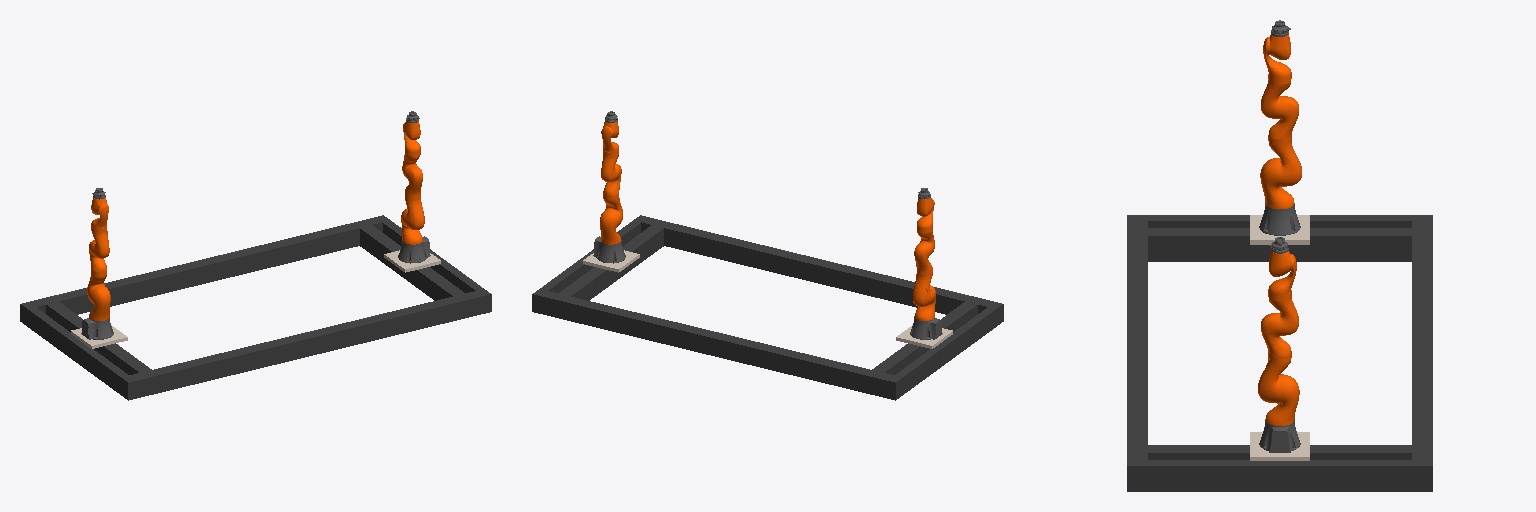
--- What the picture shows (computed from the rendered views, not written in the file) ---
3 views of the same robot in one strip: view 1: azimuth 30°, elevation 25°; view 2: azimuth 150°, elevation 25°; view 3: azimuth 270°, elevation 25° (orthographic).
Model iiwas with 27 links and 26 joints (14 revolute, 12 fixed), rooted at world, posed all joints at 0.
Links seen in each view (by area): view 1: v_bar_right, v_bar_left, h_bar_front_out, h_bar_back_in, h_bar_front_in, h_bar_back_out, F_link_1, B_link_0, F_link_0, B_link_2; view 2: v_bar_left, v_bar_right, h_bar_front_out, h_bar_back_in, h_bar_front_in, h_bar_back_out, B_link_1, B_link_0, F_link_0, F_link_2; view 3: h_bar_back_out, h_bar_front_in, v_bar_left, v_bar_right, h_bar_back_in, h_bar_front_out, B_link_1, F_link_1, back_base, B_link_0, F_link_0, F_link_3 (+8 smaller).
Boxes of the visible links, x1,y1,x2,y2 form: v_bar_right: [121, 289, 491, 400]; v_bar_left: [20, 215, 390, 326]; h_bar_front_out: [28, 307, 128, 394]; h_bar_back_in: [360, 225, 464, 300]; h_bar_front_in: [46, 302, 151, 374]; h_bar_back_out: [383, 221, 483, 292]; F_link_1: [89, 285, 110, 320]; B_link_0: [398, 236, 430, 263]; F_link_0: [81, 317, 113, 339]; B_link_2: [404, 197, 424, 229]; v_bar_left: [532, 289, 902, 400]; v_bar_right: [633, 215, 1003, 326]; h_bar_front_out: [895, 307, 995, 394]; h_bar_back_in: [559, 225, 663, 300]; h_bar_front_in: [872, 302, 977, 374]; h_bar_back_out: [540, 221, 640, 292]; B_link_1: [600, 209, 621, 244]; B_link_0: [593, 236, 625, 263]; F_link_0: [910, 317, 942, 339]; F_link_2: [913, 274, 933, 306]; h_bar_back_out: [1148, 460, 1411, 491]; h_bar_front_in: [1148, 228, 1411, 261]; v_bar_left: [1412, 215, 1432, 491]; v_bar_right: [1127, 215, 1147, 491]; h_bar_back_in: [1148, 445, 1411, 459]; h_bar_front_out: [1148, 215, 1411, 227]; B_link_1: [1265, 374, 1299, 425]; F_link_1: [1260, 158, 1294, 208]; back_base: [1250, 432, 1309, 460]; B_link_0: [1259, 420, 1300, 452]; F_link_0: [1259, 204, 1300, 235]; F_link_3: [1268, 96, 1298, 145].
Size in the robot's own frame: 3.5 by 1.8 by 1.53 metres.
16 mesh visuals loaded from 8 distinct referenced files (8 binary STL).

URDF robot description (iiwas):
<?xml version="1.0" ?>
<!-- =================================================================================== -->
<!-- |    This document was autogenerated by xacro from iiwas_new_frame.urdf.xacro     | -->
<!-- |    EDITING THIS FILE BY HAND IS NOT RECOMMENDED                                 | -->
<!-- =================================================================================== -->
<robot name="iiwas" xmlns:xacro="http://www.ros.org/wiki/xacro">
  <material name="Black">
    <color rgba="0.0 0.0 0.0 1.0"/>
  </material>
  <material name="Blue">
    <color rgba="0.0 0.0 0.8 1.0"/>
  </material>
  <material name="Green">
    <color rgba="0.0 0.8 0.0 1.0"/>
  </material>
  <material name="Grey">
    <color rgba="0.4 0.4 0.4 1.0"/>
  </material>
  <material name="Orange">
    <color rgba="1.0 0.423529411765 0.0392156862745 1.0"/>
  </material>
  <material name="Brown">
    <color rgba="0.870588235294 0.811764705882 0.764705882353 1.0"/>
  </material>
  <material name="Red">
    <color rgba="0.8 0.0 0.0 1.0"/>
  </material>
  <material name="White">
    <color rgba="1.0 1.0 1.0 1.0"/>
  </material>
  <material name="LightGrey">
    <color rgba="0.3 0.3 0.3 1.0"/>
  </material>
  <!--       xmlns:sensor="http://playerstage.sourceforge.net/gazebo/xmlschema/#sensor"-->
  <!--       xmlns:controller="http://playerstage.sourceforge.net/gazebo/xmlschema/#controller"-->
  <!--       xmlns:interface="http://playerstage.sourceforge.net/gazebo/xmlschema/#interface">-->
  <!-- the mass values and inertia may not be completly correct as the moment so this model should just be used as a kinematic one now-->
  <link name="world"/>
  <joint name="front_base_joint" type="fixed">
    <origin rpy="0.0 0.0 0.0" xyz="0.0 0.0 -0.015"/>
    <parent link="world"/>
    <child link="front_base"/>
  </joint>
  <link name="front_base">
    <inertial>
      <origin rpy="0 0 0" xyz="0 0 0"/>
      <mass value="3"/>
      <inertia ixx="0.03" ixy="0.0" ixz="0.0" iyy="0.03" iyz="0.0" izz="0.06"/>
    </inertial>
    <visual>
      <origin rpy="0.0 0.0 0.0" xyz="0.0 0.0 0.0"/>
      <geometry>
        <box size="0.35 0.35 0.03"/>
      </geometry>
      <material name="Brown"/>
    </visual>
    <collision>
      <origin rpy="0.0 0.0 0.0" xyz="0.0 0.0 0.0"/>
      <geometry>
        <box size="0.35 0.35 0.03"/>
      </geometry>
    </collision>
    <selfCollide>0</selfCollide>
  </link>
  <joint name="back_base_joint" type="fixed">
    <origin rpy="0.0 0.0 0.0" xyz="3.02 0.0 0.0"/>
    <parent link="front_base"/>
    <child link="back_base"/>
  </joint>
  <link name="back_base">
    <inertial>
      <origin rpy="0 0 0" xyz="0 0 0"/>
      <mass value="3"/>
      <inertia ixx="0.03" ixy="0.0" ixz="0.0" iyy="0.03" iyz="0.0" izz="0.06"/>
    </inertial>
    <visual>
      <origin rpy="0.0 0.0 0.0" xyz="0.0 0.0 0.0"/>
      <geometry>
        <box size="0.35 0.35 0.03"/>
      </geometry>
      <material name="Brown"/>
    </visual>
    <collision>
      <origin rpy="0.0 0.0 0.0" xyz="0.0 0.0 0.0"/>
      <geometry>
        <box size="0.35 0.35 0.03"/>
      </geometry>
    </collision>
    <selfCollide>0</selfCollide>
  </link>
  <joint name="front_in" type="fixed">
    <origin rpy="0.0 0.0 1.57079632679" xyz="0.0 0.0 -0.0975"/>
    <parent link="front_base"/>
    <child link="h_bar_front_in"/>
  </joint>
  <link name="h_bar_front_in">
    <inertial>
      <origin rpy="0 0 0" xyz="0 0 0"/>
      <mass value="5"/>
      <inertia ixx="0.0175" ixy="0.0" ixz="0.0" iyy="1.025" iyz="0.0" izz="1.02"/>
    </inertial>
    <visual>
      <origin rpy="0.0 0.0 0.0" xyz="0.0 0.0 0.0"/>
      <geometry>
        <box size="1.56 0.12 0.165"/>
      </geometry>
      <material name="LightGrey"/>
    </visual>
    <collision>
      <origin rpy="0.0 0.0 0.0" xyz="0.0 0.0 0.0"/>
      <geometry>
        <box size="1.56 0.12 0.165"/>
      </geometry>
    </collision>
    <selfCollide>0</selfCollide>
  </link>
  <joint name="front_out" type="fixed">
    <origin rpy="0.0 0.0 1.57079632679" xyz="-0.20 0.0 -0.0975"/>
    <parent link="front_base"/>
    <child link="h_bar_front_out"/>
  </joint>
  <link name="h_bar_front_out">
    <inertial>
      <origin rpy="0 0 0" xyz="0 0 0"/>
      <mass value="5"/>
      <inertia ixx="0.014" ixy="0.0" ixz="0.0" iyy="1.025" iyz="0.0" izz="1.02"/>
    </inertial>
    <visual>
      <origin rpy="0.0 0.0 0.0" xyz="0.0 0.0 0.0"/>
      <geometry>
        <box size="1.56 0.08 0.165"/>
      </geometry>
      <material name="LightGrey"/>
    </visual>
    <collision>
      <origin rpy="0.0 0.0 0.0" xyz="0.0 0.0 0.0"/>
      <geometry>
        <box size="1.56 0.08 0.165"/>
      </geometry>
    </collision>
    <selfCollide>0</selfCollide>
  </link>
  <joint name="back_in" type="fixed">
    <origin rpy="0.0 0.0 1.57079632679" xyz="0.0 0.0 -0.0975"/>
    <parent link="back_base"/>
    <child link="h_bar_back_in"/>
  </joint>
  <link name="h_bar_back_in">
    <inertial>
      <origin rpy="0 0 0" xyz="0 0 0"/>
      <mass value="5"/>
      <inertia ixx="0.0175" ixy="0.0" ixz="0.0" iyy="1.025" iyz="0.0" izz="1.02"/>
    </inertial>
    <visual>
      <origin rpy="0.0 0.0 0.0" xyz="0.0 0.0 0.0"/>
      <geometry>
        <box size="1.56 0.12 0.165"/>
      </geometry>
      <material name="LightGrey"/>
    </visual>
    <collision>
      <origin rpy="0.0 0.0 0.0" xyz="0.0 0.0 0.0"/>
      <geometry>
        <box size="1.56 0.12 0.165"/>
      </geometry>
    </collision>
    <selfCollide>0</selfCollide>
  </link>
  <joint name="back_out" type="fixed">
    <origin rpy="0.0 0.0 1.57079632679" xyz="3.22 0.0 -0.0975"/>
    <parent link="front_base"/>
    <child link="h_bar_back_out"/>
  </joint>
  <link name="h_bar_back_out">
    <inertial>
      <origin rpy="0 0 0" xyz="0 0 0"/>
      <mass value="5"/>
      <inertia ixx="0.014" ixy="0.0" ixz="0.0" iyy="1.025" iyz="0.0" izz="1.02"/>
    </inertial>
    <visual>
      <origin rpy="0.0 0.0 0.0" xyz="0.0 0.0 0.0"/>
      <geometry>
        <box size="1.56 0.08 0.165"/>
      </geometry>
      <material name="LightGrey"/>
    </visual>
    <collision>
      <origin rpy="0.0 0.0 0.0" xyz="0.0 0.0 0.0"/>
      <geometry>
        <box size="1.56 0.08 0.165"/>
      </geometry>
    </collision>
    <selfCollide>0</selfCollide>
  </link>
  <joint name="left" type="fixed">
    <origin rpy="0.0 0.0 0.0" xyz="1.51 0.84 -0.0975"/>
    <parent link="front_base"/>
    <child link="v_bar_left"/>
  </joint>
  <link name="v_bar_left">
    <inertial>
      <origin rpy="0 0 0" xyz="0 0 0"/>
      <mass value="8"/>
      <inertia ixx="0.028" ixy="0.0" ixz="0.0" iyy="8.467" iyz="0.0" izz="8.459"/>
    </inertial>
    <visual>
      <origin rpy="0.0 0.0 0.0" xyz="0.0 0.0 0.0"/>
      <geometry>
        <box size="3.5 0.12 0.165"/>
      </geometry>
      <material name="LightGrey"/>
    </visual>
    <collision>
      <origin rpy="0.0 0.0 0.0" xyz="0.0 0.0 0.0"/>
      <geometry>
        <box size="3.5 0.12 0.165"/>
      </geometry>
    </collision>
    <selfCollide>0</selfCollide>
  </link>
  <joint name="frame_right" type="fixed">
    <origin rpy="0.0 0.0 0.0" xyz="1.51 -0.84 -0.0975"/>
    <parent link="front_base"/>
    <child link="v_bar_right"/>
  </joint>
  <link name="v_bar_right">
    <inertial>
      <origin rpy="0 0 0" xyz="0 0 0"/>
      <mass value="8"/>
      <inertia ixx="0.028" ixy="0.0" ixz="0.0" iyy="8.467" iyz="0.0" izz="8.459"/>
    </inertial>
    <visual>
      <origin rpy="0.0 0.0 0.0" xyz="0.0 0.0 0.0"/>
      <geometry>
        <box size="3.5 0.12 0.165"/>
      </geometry>
      <material name="LightGrey"/>
    </visual>
    <collision>
      <origin rpy="0.0 0.0 0.0" xyz="0.0 0.0 0.0"/>
      <geometry>
        <box size="3.5 0.12 0.165"/>
      </geometry>
    </collision>
    <selfCollide>0</selfCollide>
  </link>
  <gazebo reference="iiwas_frame">
    <material value="Gazebo/Black"/>
    <turnGravityOff>0</turnGravityOff>
    <!-- use gravity for the base even if disabled for the arms in order to prevent iiwas from falling-->
  </gazebo>
  <!--joint between {parent} and link_0-->
  <joint name="front_base_F_base_joint" type="fixed">
    <origin rpy="0.0 0.0 0.0" xyz="0.0 0.0 0.015"/>
    <parent link="front_base"/>
    <child link="F_link_0"/>
  </joint>
  <link name="F_link_0">
    <inertial>
      <origin rpy="0 0 0" xyz="-0.1 0 0.07"/>
      <mass value="5"/>
      <inertia ixx="0.05" ixy="0" ixz="0" iyy="0.06" iyz="0" izz="0.03"/>
    </inertial>
    <visual>
      <origin rpy="0 0 0" xyz="0 0 0"/>
      <geometry>
        <mesh filename="package://iiwas_description/meshes/visual/link_0.stl"/>
      </geometry>
      <material name="Grey"/>
    </visual>
    <collision>
      <origin rpy="0 0 0" xyz="0 0 0"/>
      <geometry>
        <mesh filename="package://iiwas_description/meshes/collision/link_0.stl"/>
      </geometry>
      <material name="Grey"/>
    </collision>
    <self_collision_checking>
      <origin rpy="0 0 0" xyz="0 0 0"/>
      <geometry>
        <capsule length="0.25" radius="0.15"/>
      </geometry>
    </self_collision_checking>
  </link>
  <!-- joint between link_0 and link_1 -->
  <joint name="F_joint_1" type="revolute">
    <parent link="F_link_0"/>
    <child link="F_link_1"/>
    <origin rpy="0 0 0" xyz="0 0 0.1575"/>
    <axis xyz="0 0 1"/>
    <limit effort="320" lower="-2.96705972839" upper="2.96705972839" velocity="1.4835298642"/>
    <safety_controller k_position="1" k_velocity="10" soft_lower_limit="-2.93215314335" soft_upper_limit="2.93215314335"/>
    <dynamics damping="0.5"/>
  </joint>
  <link name="F_link_1">
    <inertial>
      <origin rpy="0 0 0" xyz="0 -0.03 0.12"/>
      <!--        <origin xyz="0.003508 -0.001602 0.171113" rpy="0 0 0"/>  &lt;!&ndash; inertial from sl but in different coordinate system &ndash;&gt;-->
      <mass value="3.947808"/>
      <!--        <inertia ixx="0.004554"  ixy="0.000001"  ixz="-0.000002" iyy="0.004542" iyz="0.000005" izz="0.000289" />-->
      <!--        <inertia ixx="0.4554"  ixy="0.0001"  ixz="-0.0002" iyy="0.4542" iyz="0.0005" izz="0.0289" />-->
      <inertia ixx="0.1" ixy="0" ixz="0" iyy="0.09" iyz="0" izz="0.02"/>
    </inertial>
    <visual>
      <origin rpy="0 0 0" xyz="0 0 0"/>
      <geometry>
        <mesh filename="package://iiwas_description/meshes/visual/link_1.stl"/>
      </geometry>
      <material name="Orange"/>
    </visual>
    <collision>
      <origin rpy="0 0 0" xyz="0 0 0"/>
      <geometry>
        <mesh filename="package://iiwas_description/meshes/collision/link_1.stl"/>
      </geometry>
      <material name="Orange"/>
    </collision>
  </link>
  <!-- joint between link_1 and link_2 -->
  <joint name="F_joint_2" type="revolute">
    <parent link="F_link_1"/>
    <child link="F_link_2"/>
    <origin rpy="1.57079632679   0 3.14159265359" xyz="0 0 0.2025"/>
    <axis xyz="0 0 1"/>
    <limit effort="320" lower="-2.09439510239" upper="2.09439510239" velocity="1.4835298642"/>
    <safety_controller k_position="1" k_velocity="10" soft_lower_limit="-2.05948851735" soft_upper_limit="2.05948851735"/>
    <dynamics damping="0.5"/>
  </joint>
  <link name="F_link_2">
    <inertial>
      <origin rpy="0 0 0" xyz="0.0003 0.059 0.042"/>
      <!--        <origin xyz="-0.007671 0.166693  -0.003551" rpy="0 0 0"/>  &lt;!&ndash; inertial from sl but in different coordinate system &ndash;&gt;-->
      <mass value="4.502752"/>
      <!--        <inertia ixx="0.000318"  ixy="0.000000"  ixz="0.000007" iyy="0.000100" iyz="-0.000003" izz="0.000419" />-->
      <!--        <inertia ixx="0.0318"  ixy="0.0000"  ixz="0.0007" iyy="0.0100" iyz="-0.0003" izz="0.0419" />-->
      <inertia ixx="0.05" ixy="0" ixz="0" iyy="0.018" iyz="0" izz="0.044"/>
    </inertial>
    <visual>
      <origin rpy="0 0 0" xyz="0 0 0"/>
      <geometry>
        <mesh filename="package://iiwas_description/meshes/visual/link_2.stl"/>
      </geometry>
      <material name="Orange"/>
    </visual>
    <collision>
      <origin rpy="0 0 0" xyz="0 0 0"/>
      <geometry>
        <mesh filename="package://iiwas_description/meshes/collision/link_2.stl"/>
      </geometry>
      <material name="Orange"/>
    </collision>
  </link>
  <!-- joint between link_2 and link_3 -->
  <joint name="F_joint_3" type="revolute">
    <parent link="F_link_2"/>
    <child link="F_link_3"/>
    <origin rpy="1.57079632679 0 3.14159265359" xyz="0 0.2045 0"/>
    <axis xyz="0 0 1"/>
    <limit effort="176" lower="-2.96705972839" upper="2.96705972839" velocity="1.74532925199"/>
    <safety_controller k_position="1" k_velocity="10" soft_lower_limit="-2.93215314335" soft_upper_limit="2.93215314335"/>
    <dynamics damping="0.5"/>
  </joint>
  <link name="F_link_3">
    <inertial>
      <origin rpy="0 0 0" xyz="0 0.03 0.13"/>
      <!--        <origin xyz="0.002246 0.034918 0.188978" rpy="0 0 0"/> &lt;!&ndash; inertial from sl but in different coordinate system &ndash;&gt;-->
      <mass value="2.455197"/>
      <!--        <inertia ixx="0.002233"  ixy="-0.000046"  ixz="0.000068" iyy="0.002191" iyz="0.000072" izz="0.000725" />-->
      <!--        <inertia ixx="0.2233"  ixy="-0.0046"  ixz="0.0068" iyy="0.2191" iyz="0.0072" izz="0.0725" />-->
      <inertia ixx="0.08" ixy="0" ixz="0" iyy="0.075" iyz="0" izz="0.01"/>
    </inertial>
    <visual>
      <origin rpy="0 0 0" xyz="0 0 0"/>
      <geometry>
        <mesh filename="package://iiwas_description/meshes/visual/link_3.stl"/>
      </geometry>
      <material name="Orange"/>
    </visual>
    <collision>
      <origin rpy="0 0 0" xyz="0 0 0"/>
      <geometry>
        <mesh filename="package://iiwas_description/meshes/collision/link_3.stl"/>
      </geometry>
      <material name="Orange"/>
    </collision>
  </link>
  <!-- joint between link_3 and link_4 -->
  <joint name="F_joint_4" type="revolute">
    <parent link="F_link_3"/>
    <child link="F_link_4"/>
    <origin rpy="1.57079632679 0 0" xyz="0 0 0.2155"/>
    <axis xyz="0 0 1"/>
    <limit effort="176" lower="-2.09439510239" upper="2.09439510239" velocity="1.308996939"/>
    <safety_controller k_position="1" k_velocity="10" soft_lower_limit="-2.05948851735" soft_upper_limit="2.05948851735"/>
    <dynamics damping="0.5"/>
  </joint>
  <link name="F_link_4">
    <inertial>
      <origin rpy="0 0 0" xyz="0 0.067 0.034"/>
      <!--        <origin xyz="-0.000196  0.052679 0.038182" rpy="0 0 0"/> &lt;!&ndash; inertial from sl but in different coordinate system &ndash;&gt;-->
      <mass value="2.611550"/>
      <!--        <inertia ixx="0.038444"  ixy="0.000880"  ixz="-0.001120" iyy="0.011437" iyz="-0.001113" izz=" 0.049880" />-->
      <!--        <inertia ixx="3.8444"  ixy="0.0880"  ixz="-0.1120" iyy="1.1437" iyz="-0.1113" izz=" 4.9880" />-->
      <inertia ixx="0.03" ixy="0" ixz="0" iyy="0.01" iyz="0" izz="0.029"/>
    </inertial>
    <visual>
      <origin rpy="0 0 0" xyz="0 0 0"/>
      <geometry>
        <mesh filename="package://iiwas_description/meshes/visual/link_4.stl"/>
      </geometry>
      <material name="Orange"/>
    </visual>
    <collision>
      <origin rpy="0 0 0" xyz="0 0 0"/>
      <geometry>
        <mesh filename="package://iiwas_description/meshes/collision/link_4.stl"/>
      </geometry>
      <material name="Orange"/>
    </collision>
  </link>
  <!-- joint between link_4 and link_5 -->
  <joint name="F_joint_5" type="revolute">
    <parent link="F_link_4"/>
    <child link="F_link_5"/>
    <origin rpy="-1.57079632679 3.14159265359 0" xyz="0 0.1845 0"/>
    <axis xyz="0 0 1"/>
    <limit effort="110" lower="-2.96705972839" upper="2.96705972839" velocity="2.26892802759"/>
    <safety_controller k_position="1" k_velocity="10" soft_lower_limit="-2.93215314335" soft_upper_limit="2.93215314335"/>
    <dynamics damping="0.5"/>
  </joint>
  <link name="F_link_5">
    <inertial>
      <origin rpy="0 0 0" xyz="0.0001 0.021 0.076"/>
      <!--        <origin xyz="0.000054  -0.002367 0.004164" rpy="0 0 0"/> &lt;!&ndash; inertial from sl but in different coordinate system &ndash;&gt;-->
      <mass value="3.410009"/>
      <!--        <inertia ixx="0.002769"  ixy="-0.000008"  ixz="0.000006" iyy="0.002842" iyz="-0.000001" izz="0.000117" />-->
      <!--        <inertia ixx="0.2769"  ixy="-0.0008"  ixz="0.0006" iyy="0.2842" iyz="-0.0001" izz="0.0117" />-->
      <inertia ixx="0.02" ixy="0" ixz="0" iyy="0.018" iyz="0" izz="0.005"/>
    </inertial>
    <visual>
      <origin rpy="0 0 0" xyz="0 0 0"/>
      <geometry>
        <mesh filename="package://iiwas_description/meshes/visual/link_5.stl"/>
      </geometry>
      <material name="Orange"/>
    </visual>
    <collision>
      <origin rpy="0 0 0" xyz="0 0 0"/>
      <geometry>
        <mesh filename="package://iiwas_description/meshes/collision/link_5.stl"/>
      </geometry>
      <material name="Orange"/>
    </collision>
  </link>
  <!-- joint between link_5 and link_6 -->
  <joint name="F_joint_6" type="revolute">
    <parent link="F_link_5"/>
    <child link="F_link_6"/>
    <origin rpy="1.57079632679 0 0" xyz="0 0 0.2155"/>
    <axis xyz="0 0 1"/>
    <limit effort="40" lower="-2.09439510239" upper="2.09439510239" velocity="2.35619449019"/>
    <safety_controller k_position="1" k_velocity="10" soft_lower_limit="-2.05948851735" soft_upper_limit="2.05948851735"/>
    <dynamics damping="0.5"/>
  </joint>
  <link name="F_link_6">
    <inertial>
      <origin rpy="0 0 0" xyz="0 0.0006 0.0004"/>
      <!--        <origin xyz="0.000492  0.020190  -0.027496" rpy="0 0 0"/>   &lt;!&ndash; inertial from sl but in different coordinate system &ndash;&gt;-->
      <mass value="3.387949"/>
      <!--        <inertia ixx="0.000500"  ixy="-0.000050"  ixz="-0.000024" iyy="0.002809" iyz="-0.000041" izz="0.002315" />-->
      <!--        <inertia ixx="0.0500"  ixy="-0.0050"  ixz="-0.0024" iyy="0.2809" iyz="-0.0041" izz="0.2315" />-->
      <inertia ixx="0.005" ixy="0" ixz="0" iyy="0.0036" iyz="0" izz="0.0047"/>
    </inertial>
    <visual>
      <origin rpy="0 0 0" xyz="0 0 0"/>
      <geometry>
        <mesh filename="package://iiwas_description/meshes/visual/link_6.stl"/>
      </geometry>
      <material name="Orange"/>
    </visual>
    <collision>
      <origin rpy="0 0 0" xyz="0 0 0"/>
      <geometry>
        <mesh filename="package://iiwas_description/meshes/collision/link_6.stl"/>
      </geometry>
      <material name="Orange"/>
    </collision>
  </link>
  <!-- joint between link_6 and link_7 -->
  <joint name="F_joint_7" type="revolute">
    <parent link="F_link_6"/>
    <child link="F_link_7"/>
    <origin rpy="-1.57079632679 3.14159265359 0" xyz="0 0.081 0"/>
    <axis xyz="0 0 1"/>
    <limit effort="40" lower="-3.05432619099" upper="3.05432619099" velocity="2.35619449019"/>
    <safety_controller k_position="1" k_velocity="10" soft_lower_limit="-3.01941960595" soft_upper_limit="3.01941960595"/>
    <dynamics damping="0.5"/>
  </joint>
  <link name="F_link_7">
    <inertial>
      <origin rpy="0 0 0" xyz="0 0 0.02"/>
      <!--        <origin xyz="0.034656 0.023242 -0.009623" rpy="0 0 0"/> &lt;!&ndash; inertial from sl but in different coordinate system &ndash;&gt;-->
      <mass value="0.354321"/>
      <!--        <inertia ixx="0.007946"  ixy="0.000221"  ixz="-0.000294" iyy=" 0.010889" iyz="-0.000294" izz="0.002944" />-->
      <!--        <inertia ixx="0.7946"  ixy="0.0221"  ixz="-0.0294" iyy=" 1.0889" iyz="-0.0294" izz="0.2944" />-->
      <inertia ixx="0.001" ixy="0" ixz="0" iyy="0.001" iyz="0" izz="0.001"/>
    </inertial>
    <visual>
      <origin rpy="0 0 0" xyz="0 0 0"/>
      <geometry>
        <mesh filename="package://iiwas_description/meshes/visual/link_7.stl"/>
      </geometry>
      <material name="Grey"/>
    </visual>
    <collision>
      <origin rpy="0 0 0" xyz="0 0 0"/>
      <geometry>
        <mesh filename="package://iiwas_description/meshes/collision/link_7.stl"/>
      </geometry>
      <material name="Grey"/>
    </collision>
  </link>
  <joint name="F_SAKE" type="fixed">
    <parent link="F_link_7"/>
    <child link="F_link_ee"/>
    <origin rpy="0 0 0" xyz="0 0 0.07"/>
  </joint>
  <link name="F_link_ee">
    <inertial>
      <origin rpy="0 0 0" xyz="0 0 0.0"/>
      <mass value="0.0"/>
      <inertia ixx="0.0" ixy="0.0" ixz="0.0" iyy="0.0" iyz="0.0" izz="0.0"/>
    </inertial>
  </link>
  <!-- Link0 -->
  <gazebo reference="F_link_0">
    <material>Gazebo/Grey</material>
    <mu1>0.2</mu1>
    <mu2>0.2</mu2>
    <selfCollide>0</selfCollide>
  </gazebo>
  <!-- Link1 -->
  <gazebo reference="F_link_1">
    <material>Gazebo/Orange</material>
    <mu1>0.2</mu1>
    <mu2>0.2</mu2>
    <selfCollide>0</selfCollide>
  </gazebo>
  <!-- Link2 -->
  <gazebo reference="F_link_2">
    <material>Gazebo/Orange</material>
    <mu1>0.2</mu1>
    <mu2>0.2</mu2>
    <selfCollide>0</selfCollide>
  </gazebo>
  <!-- Link3 -->
  <gazebo reference="F_link_3">
    <material>Gazebo/Orange</material>
    <mu1>0.2</mu1>
    <mu2>0.2</mu2>
    <selfCollide>0</selfCollide>
  </gazebo>
  <!-- Link4 -->
  <gazebo reference="F_link_4">
    <material>Gazebo/Orange</material>
    <mu1>0.2</mu1>
    <mu2>0.2</mu2>
    <selfCollide>0</selfCollide>
  </gazebo>
  <!-- Link5 -->
  <gazebo reference="F_link_5">
    <material>Gazebo/Orange</material>
    <mu1>0.2</mu1>
    <mu2>0.2</mu2>
    <selfCollide>0</selfCollide>
  </gazebo>
  <!-- Link6 -->
  <gazebo reference="F_link_6">
    <material>Gazebo/Orange</material>
    <mu1>0.2</mu1>
    <mu2>0.2</mu2>
    <selfCollide>0</selfCollide>
  </gazebo>
  <!-- Link7 -->
  <gazebo reference="F_link_7">
    <material>Gazebo/Grey</material>
    <mu1>0.2</mu1>
    <mu2>0.2</mu2>
    <selfCollide>0</selfCollide>
  </gazebo>
  <transmission name="F_tran_1">
    <robotNamespace>/F</robotNamespace>
    <type>transmission_interface/SimpleTransmission</type>
    <joint name="F_joint_1">
      <hardwareInterface>hardware_interface/PositionJointInterface</hardwareInterface>
    </joint>
    <actuator name="F_motor_1">
      <hardwareInterface>hardware_interface/PositionJointInterface</hardwareInterface>
      <mechanicalReduction>1</mechanicalReduction>
    </actuator>
  </transmission>
  <transmission name="F_tran_2">
    <robotNamespace>/F</robotNamespace>
    <type>transmission_interface/SimpleTransmission</type>
    <joint name="F_joint_2">
      <hardwareInterface>hardware_interface/PositionJointInterface</hardwareInterface>
    </joint>
    <actuator name="F_motor_2">
      <hardwareInterface>hardware_interface/PositionJointInterface</hardwareInterface>
      <mechanicalReduction>1</mechanicalReduction>
    </actuator>
  </transmission>
  <transmission name="F_tran_3">
    <robotNamespace>/F</robotNamespace>
    <type>transmission_interface/SimpleTransmission</type>
    <joint name="F_joint_3">
      <hardwareInterface>hardware_interface/PositionJointInterface</hardwareInterface>
    </joint>
    <actuator name="F_motor_3">
      <hardwareInterface>hardware_interface/PositionJointInterface</hardwareInterface>
      <mechanicalReduction>1</mechanicalReduction>
    </actuator>
  </transmission>
  <transmission name="F_tran_4">
    <robotNamespace>/F</robotNamespace>
    <type>transmission_interface/SimpleTransmission</type>
    <joint name="F_joint_4">
      <hardwareInterface>hardware_interface/PositionJointInterface</hardwareInterface>
    </joint>
    <actuator name="F_motor_4">
      <hardwareInterface>hardware_interface/PositionJointInterface</hardwareInterface>
      <mechanicalReduction>1</mechanicalReduction>
    </actuator>
  </transmission>
  <transmission name="F_tran_5">
    <robotNamespace>/F</robotNamespace>
    <type>transmission_interface/SimpleTransmission</type>
    <joint name="F_joint_5">
      <hardwareInterface>hardware_interface/PositionJointInterface</hardwareInterface>
    </joint>
    <actuator name="F_motor_5">
      <hardwareInterface>hardware_interface/PositionJointInterface</hardwareInterface>
      <mechanicalReduction>1</mechanicalReduction>
    </actuator>
  </transmission>
  <transmission name="F_tran_6">
    <robotNamespace>/F</robotNamespace>
    <type>transmission_interface/SimpleTransmission</type>
    <joint name="F_joint_6">
      <hardwareInterface>hardware_interface/PositionJointInterface</hardwareInterface>
    </joint>
    <actuator name="F_motor_6">
      <hardwareInterface>hardware_interface/PositionJointInterface</hardwareInterface>
      <mechanicalReduction>1</mechanicalReduction>
    </actuator>
  </transmission>
  <transmission name="F_tran_7">
    <robotNamespace>/F</robotNamespace>
    <type>transmission_interface/SimpleTransmission</type>
    <joint name="F_joint_7">
      <hardwareInterface>hardware_interface/PositionJointInterface</hardwareInterface>
    </joint>
    <actuator name="F_motor_7">
      <hardwareInterface>hardware_interface/PositionJointInterface</hardwareInterface>
      <mechanicalReduction>1</mechanicalReduction>
    </actuator>
  </transmission>
  <!--joint between {parent} and link_0-->
  <joint name="back_base_B_base_joint" type="fixed">
    <origin rpy="0.0 0.0 3.14159265359" xyz="0.0 0.0 0.015"/>
    <parent link="back_base"/>
    <child link="B_link_0"/>
  </joint>
  <link name="B_link_0">
    <inertial>
      <origin rpy="0 0 0" xyz="-0.1 0 0.07"/>
      <mass value="5"/>
      <inertia ixx="0.05" ixy="0" ixz="0" iyy="0.06" iyz="0" izz="0.03"/>
    </inertial>
    <visual>
      <origin rpy="0 0 0" xyz="0 0 0"/>
      <geometry>
        <mesh filename="package://iiwas_description/meshes/visual/link_0.stl"/>
      </geometry>
      <material name="Grey"/>
    </visual>
    <collision>
      <origin rpy="0 0 0" xyz="0 0 0"/>
      <geometry>
        <mesh filename="package://iiwas_description/meshes/collision/link_0.stl"/>
      </geometry>
      <material name="Grey"/>
    </collision>
    <self_collision_checking>
      <origin rpy="0 0 0" xyz="0 0 0"/>
      <geometry>
        <capsule length="0.25" radius="0.15"/>
      </geometry>
    </self_collision_checking>
  </link>
  <!-- joint between link_0 and link_1 -->
  <joint name="B_joint_1" type="revolute">
    <parent link="B_link_0"/>
    <child link="B_link_1"/>
    <origin rpy="0 0 0" xyz="0 0 0.1575"/>
    <axis xyz="0 0 1"/>
    <limit effort="320" lower="-2.96705972839" upper="2.96705972839" velocity="1.4835298642"/>
    <safety_controller k_position="1" k_velocity="10" soft_lower_limit="-2.93215314335" soft_upper_limit="2.93215314335"/>
    <dynamics damping="0.5"/>
  </joint>
  <link name="B_link_1">
    <inertial>
      <origin rpy="0 0 0" xyz="0 -0.03 0.12"/>
      <!--        <origin xyz="0.003508 -0.001602 0.171113" rpy="0 0 0"/>  &lt;!&ndash; inertial from sl but in different coordinate system &ndash;&gt;-->
      <mass value="3.947808"/>
      <!--        <inertia ixx="0.004554"  ixy="0.000001"  ixz="-0.000002" iyy="0.004542" iyz="0.000005" izz="0.000289" />-->
      <!--        <inertia ixx="0.4554"  ixy="0.0001"  ixz="-0.0002" iyy="0.4542" iyz="0.0005" izz="0.0289" />-->
      <inertia ixx="0.1" ixy="0" ixz="0" iyy="0.09" iyz="0" izz="0.02"/>
    </inertial>
    <visual>
      <origin rpy="0 0 0" xyz="0 0 0"/>
      <geometry>
        <mesh filename="package://iiwas_description/meshes/visual/link_1.stl"/>
      </geometry>
      <material name="Orange"/>
    </visual>
    <collision>
      <origin rpy="0 0 0" xyz="0 0 0"/>
      <geometry>
        <mesh filename="package://iiwas_description/meshes/collision/link_1.stl"/>
      </geometry>
      <material name="Orange"/>
    </collision>
  </link>
  <!-- joint between link_1 and link_2 -->
  <joint name="B_joint_2" type="revolute">
    <parent link="B_link_1"/>
    <child link="B_link_2"/>
    <origin rpy="1.57079632679   0 3.14159265359" xyz="0 0 0.2025"/>
    <axis xyz="0 0 1"/>
    <limit effort="320" lower="-2.09439510239" upper="2.09439510239" velocity="1.4835298642"/>
    <safety_controller k_position="1" k_velocity="10" soft_lower_limit="-2.05948851735" soft_upper_limit="2.05948851735"/>
    <dynamics damping="0.5"/>
  </joint>
  <link name="B_link_2">
    <inertial>
      <origin rpy="0 0 0" xyz="0.0003 0.059 0.042"/>
      <!--        <origin xyz="-0.007671 0.166693  -0.003551" rpy="0 0 0"/>  &lt;!&ndash; inertial from sl but in different coordinate system &ndash;&gt;-->
      <mass value="4.502752"/>
      <!--        <inertia ixx="0.000318"  ixy="0.000000"  ixz="0.000007" iyy="0.000100" iyz="-0.000003" izz="0.000419" />-->
      <!--        <inertia ixx="0.0318"  ixy="0.0000"  ixz="0.0007" iyy="0.0100" iyz="-0.0003" izz="0.0419" />-->
      <inertia ixx="0.05" ixy="0" ixz="0" iyy="0.018" iyz="0" izz="0.044"/>
    </inertial>
    <visual>
      <origin rpy="0 0 0" xyz="0 0 0"/>
      <geometry>
        <mesh filename="package://iiwas_description/meshes/visual/link_2.stl"/>
      </geometry>
      <material name="Orange"/>
    </visual>
    <collision>
      <origin rpy="0 0 0" xyz="0 0 0"/>
      <geometry>
        <mesh filename="package://iiwas_description/meshes/collision/link_2.stl"/>
      </geometry>
      <material name="Orange"/>
    </collision>
  </link>
  <!-- joint between link_2 and link_3 -->
  <joint name="B_joint_3" type="revolute">
    <parent link="B_link_2"/>
    <child link="B_link_3"/>
    <origin rpy="1.57079632679 0 3.14159265359" xyz="0 0.2045 0"/>
    <axis xyz="0 0 1"/>
    <limit effort="176" lower="-2.96705972839" upper="2.96705972839" velocity="1.74532925199"/>
    <safety_controller k_position="1" k_velocity="10" soft_lower_limit="-2.93215314335" soft_upper_limit="2.93215314335"/>
    <dynamics damping="0.5"/>
  </joint>
  <link name="B_link_3">
    <inertial>
      <origin rpy="0 0 0" xyz="0 0.03 0.13"/>
      <!--        <origin xyz="0.002246 0.034918 0.188978" rpy="0 0 0"/> &lt;!&ndash; inertial from sl but in different coordinate system &ndash;&gt;-->
      <mass value="2.455197"/>
      <!--        <inertia ixx="0.002233"  ixy="-0.000046"  ixz="0.000068" iyy="0.002191" iyz="0.000072" izz="0.000725" />-->
      <!--        <inertia ixx="0.2233"  ixy="-0.0046"  ixz="0.0068" iyy="0.2191" iyz="0.0072" izz="0.0725" />-->
      <inertia ixx="0.08" ixy="0" ixz="0" iyy="0.075" iyz="0" izz="0.01"/>
    </inertial>
    <visual>
      <origin rpy="0 0 0" xyz="0 0 0"/>
      <geometry>
        <mesh filename="package://iiwas_description/meshes/visual/link_3.stl"/>
      </geometry>
      <material name="Orange"/>
    </visual>
    <collision>
      <origin rpy="0 0 0" xyz="0 0 0"/>
      <geometry>
        <mesh filename="package://iiwas_description/meshes/collision/link_3.stl"/>
      </geometry>
      <material name="Orange"/>
    </collision>
  </link>
  <!-- joint between link_3 and link_4 -->
  <joint name="B_joint_4" type="revolute">
    <parent link="B_link_3"/>
    <child link="B_link_4"/>
    <origin rpy="1.57079632679 0 0" xyz="0 0 0.2155"/>
    <axis xyz="0 0 1"/>
    <limit effort="176" lower="-2.09439510239" upper="2.09439510239" velocity="1.308996939"/>
    <safety_controller k_position="1" k_velocity="10" soft_lower_limit="-2.05948851735" soft_upper_limit="2.05948851735"/>
    <dynamics damping="0.5"/>
  </joint>
  <link name="B_link_4">
    <inertial>
      <origin rpy="0 0 0" xyz="0 0.067 0.034"/>
      <!--        <origin xyz="-0.000196  0.052679 0.038182" rpy="0 0 0"/> &lt;!&ndash; inertial from sl but in different coordinate system &ndash;&gt;-->
      <mass value="2.611550"/>
      <!--        <inertia ixx="0.038444"  ixy="0.000880"  ixz="-0.001120" iyy="0.011437" iyz="-0.001113" izz=" 0.049880" />-->
      <!--        <inertia ixx="3.8444"  ixy="0.0880"  ixz="-0.1120" iyy="1.1437" iyz="-0.1113" izz=" 4.9880" />-->
      <inertia ixx="0.03" ixy="0" ixz="0" iyy="0.01" iyz="0" izz="0.029"/>
    </inertial>
    <visual>
      <origin rpy="0 0 0" xyz="0 0 0"/>
      <geometry>
        <mesh filename="package://iiwas_description/meshes/visual/link_4.stl"/>
      </geometry>
      <material name="Orange"/>
    </visual>
    <collision>
      <origin rpy="0 0 0" xyz="0 0 0"/>
      <geometry>
        <mesh filename="package://iiwas_description/meshes/collision/link_4.stl"/>
      </geometry>
      <material name="Orange"/>
    </collision>
  </link>
  <!-- joint between link_4 and link_5 -->
  <joint name="B_joint_5" type="revolute">
    <parent link="B_link_4"/>
    <child link="B_link_5"/>
    <origin rpy="-1.57079632679 3.14159265359 0" xyz="0 0.1845 0"/>
    <axis xyz="0 0 1"/>
    <limit effort="110" lower="-2.96705972839" upper="2.96705972839" velocity="2.26892802759"/>
    <safety_controller k_position="1" k_velocity="10" soft_lower_limit="-2.93215314335" soft_upper_limit="2.93215314335"/>
    <dynamics damping="0.5"/>
  </joint>
  <link name="B_link_5">
    <inertial>
      <origin rpy="0 0 0" xyz="0.0001 0.021 0.076"/>
      <!--        <origin xyz="0.000054  -0.002367 0.004164" rpy="0 0 0"/> &lt;!&ndash; inertial from sl but in different coordinate system &ndash;&gt;-->
      <mass value="3.410009"/>
      <!--        <inertia ixx="0.002769"  ixy="-0.000008"  ixz="0.000006" iyy="0.002842" iyz="-0.000001" izz="0.000117" />-->
      <!--        <inertia ixx="0.2769"  ixy="-0.0008"  ixz="0.0006" iyy="0.2842" iyz="-0.0001" izz="0.0117" />-->
      <inertia ixx="0.02" ixy="0" ixz="0" iyy="0.018" iyz="0" izz="0.005"/>
    </inertial>
    <visual>
      <origin rpy="0 0 0" xyz="0 0 0"/>
      <geometry>
        <mesh filename="package://iiwas_description/meshes/visual/link_5.stl"/>
      </geometry>
      <material name="Orange"/>
    </visual>
    <collision>
      <origin rpy="0 0 0" xyz="0 0 0"/>
      <geometry>
        <mesh filename="package://iiwas_description/meshes/collision/link_5.stl"/>
      </geometry>
      <material name="Orange"/>
    </collision>
  </link>
  <!-- joint between link_5 and link_6 -->
  <joint name="B_joint_6" type="revolute">
    <parent link="B_link_5"/>
    <child link="B_link_6"/>
    <origin rpy="1.57079632679 0 0" xyz="0 0 0.2155"/>
    <axis xyz="0 0 1"/>
    <limit effort="40" lower="-2.09439510239" upper="2.09439510239" velocity="2.35619449019"/>
    <safety_controller k_position="1" k_velocity="10" soft_lower_limit="-2.05948851735" soft_upper_limit="2.05948851735"/>
    <dynamics damping="0.5"/>
  </joint>
  <link name="B_link_6">
    <inertial>
      <origin rpy="0 0 0" xyz="0 0.0006 0.0004"/>
      <!--        <origin xyz="0.000492  0.020190  -0.027496" rpy="0 0 0"/>   &lt;!&ndash; inertial from sl but in different coordinate system &ndash;&gt;-->
      <mass value="3.387949"/>
      <!--        <inertia ixx="0.000500"  ixy="-0.000050"  ixz="-0.000024" iyy="0.002809" iyz="-0.000041" izz="0.002315" />-->
      <!--        <inertia ixx="0.0500"  ixy="-0.0050"  ixz="-0.0024" iyy="0.2809" iyz="-0.0041" izz="0.2315" />-->
      <inertia ixx="0.005" ixy="0" ixz="0" iyy="0.0036" iyz="0" izz="0.0047"/>
    </inertial>
    <visual>
      <origin rpy="0 0 0" xyz="0 0 0"/>
      <geometry>
        <mesh filename="package://iiwas_description/meshes/visual/link_6.stl"/>
      </geometry>
      <material name="Orange"/>
    </visual>
    <collision>
      <origin rpy="0 0 0" xyz="0 0 0"/>
      <geometry>
        <mesh filename="package://iiwas_description/meshes/collision/link_6.stl"/>
      </geometry>
      <material name="Orange"/>
    </collision>
  </link>
  <!-- joint between link_6 and link_7 -->
  <joint name="B_joint_7" type="revolute">
    <parent link="B_link_6"/>
    <child link="B_link_7"/>
    <origin rpy="-1.57079632679 3.14159265359 0" xyz="0 0.081 0"/>
    <axis xyz="0 0 1"/>
    <limit effort="40" lower="-3.05432619099" upper="3.05432619099" velocity="2.35619449019"/>
    <safety_controller k_position="1" k_velocity="10" soft_lower_limit="-3.01941960595" soft_upper_limit="3.01941960595"/>
    <dynamics damping="0.5"/>
  </joint>
  <link name="B_link_7">
    <inertial>
      <origin rpy="0 0 0" xyz="0 0 0.02"/>
      <!--        <origin xyz="0.034656 0.023242 -0.009623" rpy="0 0 0"/> &lt;!&ndash; inertial from sl but in different coordinate system &ndash;&gt;-->
      <mass value="0.354321"/>
      <!--        <inertia ixx="0.007946"  ixy="0.000221"  ixz="-0.000294" iyy=" 0.010889" iyz="-0.000294" izz="0.002944" />-->
      <!--        <inertia ixx="0.7946"  ixy="0.0221"  ixz="-0.0294" iyy=" 1.0889" iyz="-0.0294" izz="0.2944" />-->
      <inertia ixx="0.001" ixy="0" ixz="0" iyy="0.001" iyz="0" izz="0.001"/>
    </inertial>
    <visual>
      <origin rpy="0 0 0" xyz="0 0 0"/>
      <geometry>
        <mesh filename="package://iiwas_description/meshes/visual/link_7.stl"/>
      </geometry>
      <material name="Grey"/>
    </visual>
    <collision>
      <origin rpy="0 0 0" xyz="0 0 0"/>
      <geometry>
        <mesh filename="package://iiwas_description/meshes/collision/link_7.stl"/>
      </geometry>
      <material name="Grey"/>
    </collision>
  </link>
  <joint name="B_SAKE" type="fixed">
    <parent link="B_link_7"/>
    <child link="B_link_ee"/>
    <origin rpy="0 0 0" xyz="0 0 0.07"/>
  </joint>
  <link name="B_link_ee">
    <inertial>
      <origin rpy="0 0 0" xyz="0 0 0.0"/>
      <mass value="0.0"/>
      <inertia ixx="0.0" ixy="0.0" ixz="0.0" iyy="0.0" iyz="0.0" izz="0.0"/>
    </inertial>
  </link>
  <!-- Link0 -->
  <gazebo reference="B_link_0">
    <material>Gazebo/Grey</material>
    <mu1>0.2</mu1>
    <mu2>0.2</mu2>
    <selfCollide>0</selfCollide>
  </gazebo>
  <!-- Link1 -->
  <gazebo reference="B_link_1">
    <material>Gazebo/Orange</material>
    <mu1>0.2</mu1>
    <mu2>0.2</mu2>
    <selfCollide>0</selfCollide>
  </gazebo>
  <!-- Link2 -->
  <gazebo reference="B_link_2">
    <material>Gazebo/Orange</material>
    <mu1>0.2</mu1>
    <mu2>0.2</mu2>
    <selfCollide>0</selfCollide>
  </gazebo>
  <!-- Link3 -->
  <gazebo reference="B_link_3">
    <material>Gazebo/Orange</material>
    <mu1>0.2</mu1>
    <mu2>0.2</mu2>
    <selfCollide>0</selfCollide>
  </gazebo>
  <!-- Link4 -->
  <gazebo reference="B_link_4">
    <material>Gazebo/Orange</material>
    <mu1>0.2</mu1>
    <mu2>0.2</mu2>
    <selfCollide>0</selfCollide>
  </gazebo>
  <!-- Link5 -->
  <gazebo reference="B_link_5">
    <material>Gazebo/Orange</material>
    <mu1>0.2</mu1>
    <mu2>0.2</mu2>
    <selfCollide>0</selfCollide>
  </gazebo>
  <!-- Link6 -->
  <gazebo reference="B_link_6">
    <material>Gazebo/Orange</material>
    <mu1>0.2</mu1>
    <mu2>0.2</mu2>
    <selfCollide>0</selfCollide>
  </gazebo>
  <!-- Link7 -->
  <gazebo reference="B_link_7">
    <material>Gazebo/Grey</material>
    <mu1>0.2</mu1>
    <mu2>0.2</mu2>
    <selfCollide>0</selfCollide>
  </gazebo>
  <transmission name="B_tran_1">
    <robotNamespace>/B</robotNamespace>
    <type>transmission_interface/SimpleTransmission</type>
    <joint name="B_joint_1">
      <hardwareInterface>hardware_interface/PositionJointInterface</hardwareInterface>
    </joint>
    <actuator name="B_motor_1">
      <hardwareInterface>hardware_interface/PositionJointInterface</hardwareInterface>
      <mechanicalReduction>1</mechanicalReduction>
    </actuator>
  </transmission>
  <transmission name="B_tran_2">
    <robotNamespace>/B</robotNamespace>
    <type>transmission_interface/SimpleTransmission</type>
    <joint name="B_joint_2">
      <hardwareInterface>hardware_interface/PositionJointInterface</hardwareInterface>
    </joint>
    <actuator name="B_motor_2">
      <hardwareInterface>hardware_interface/PositionJointInterface</hardwareInterface>
      <mechanicalReduction>1</mechanicalReduction>
    </actuator>
  </transmission>
  <transmission name="B_tran_3">
    <robotNamespace>/B</robotNamespace>
    <type>transmission_interface/SimpleTransmission</type>
    <joint name="B_joint_3">
      <hardwareInterface>hardware_interface/PositionJointInterface</hardwareInterface>
    </joint>
    <actuator name="B_motor_3">
      <hardwareInterface>hardware_interface/PositionJointInterface</hardwareInterface>
      <mechanicalReduction>1</mechanicalReduction>
    </actuator>
  </transmission>
  <transmission name="B_tran_4">
    <robotNamespace>/B</robotNamespace>
    <type>transmission_interface/SimpleTransmission</type>
    <joint name="B_joint_4">
      <hardwareInterface>hardware_interface/PositionJointInterface</hardwareInterface>
    </joint>
    <actuator name="B_motor_4">
      <hardwareInterface>hardware_interface/PositionJointInterface</hardwareInterface>
      <mechanicalReduction>1</mechanicalReduction>
    </actuator>
  </transmission>
  <transmission name="B_tran_5">
    <robotNamespace>/B</robotNamespace>
    <type>transmission_interface/SimpleTransmission</type>
    <joint name="B_joint_5">
      <hardwareInterface>hardware_interface/PositionJointInterface</hardwareInterface>
    </joint>
    <actuator name="B_motor_5">
      <hardwareInterface>hardware_interface/PositionJointInterface</hardwareInterface>
      <mechanicalReduction>1</mechanicalReduction>
    </actuator>
  </transmission>
  <transmission name="B_tran_6">
    <robotNamespace>/B</robotNamespace>
    <type>transmission_interface/SimpleTransmission</type>
    <joint name="B_joint_6">
      <hardwareInterface>hardware_interface/PositionJointInterface</hardwareInterface>
    </joint>
    <actuator name="B_motor_6">
      <hardwareInterface>hardware_interface/PositionJointInterface</hardwareInterface>
      <mechanicalReduction>1</mechanicalReduction>
    </actuator>
  </transmission>
  <transmission name="B_tran_7">
    <robotNamespace>/B</robotNamespace>
    <type>transmission_interface/SimpleTransmission</type>
    <joint name="B_joint_7">
      <hardwareInterface>hardware_interface/PositionJointInterface</hardwareInterface>
    </joint>
    <actuator name="B_motor_7">
      <hardwareInterface>hardware_interface/PositionJointInterface</hardwareInterface>
      <mechanicalReduction>1</mechanicalReduction>
    </actuator>
  </transmission>
  <!-- Load Gazebo lib and set the robot namespace -->
  <gazebo>
    <plugin filename="libgazebo_ros_control.so" name="gazebo_ros_control">
      <!--<robotNamespace>/${robot_name}</robotNamespace>-->
    </plugin>
  </gazebo>
</robot>
